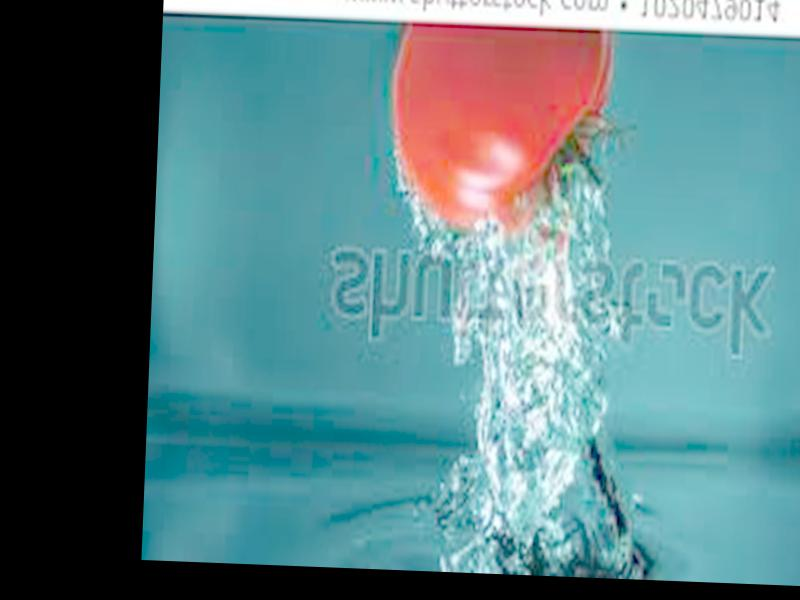Tomato: (389, 20, 615, 235)
